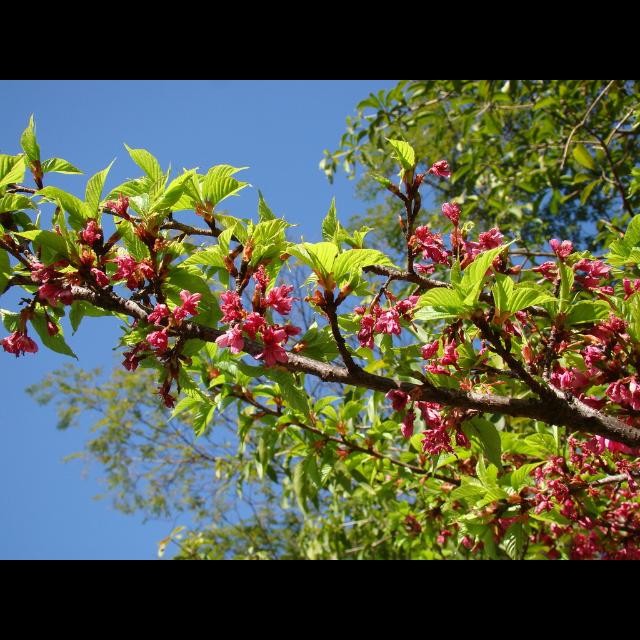Flower: (1, 159, 640, 559), (256, 328, 286, 368), (428, 158, 452, 180)
